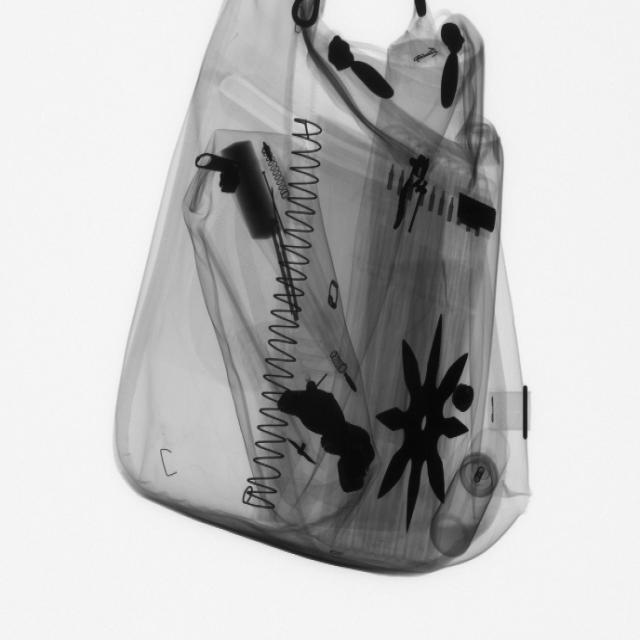BLADE: (272, 209, 301, 315)
SHURIKEN: (378, 312, 474, 528)
